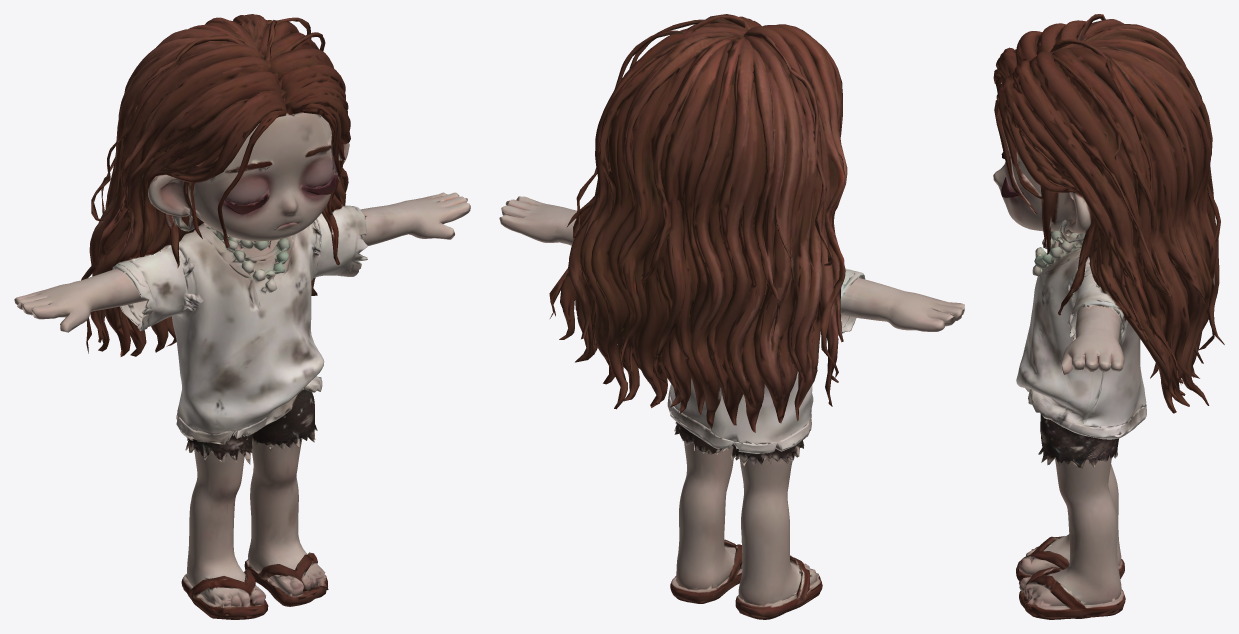
File: avatar-dead.glb
3 views of the same model, side by side, from view 1: azimuth 30°, elevation 25°; view 2: azimuth 150°, elevation 25°; view 3: azimuth 270°, elevation 25° (orthographic). The views are drawn at different scales.
Visible parts, largest first — view 1: tripo_node_920f6582-f5ca-46a7-a7a7-dc34bc4491ea; view 2: tripo_node_920f6582-f5ca-46a7-a7a7-dc34bc4491ea; view 3: tripo_node_920f6582-f5ca-46a7-a7a7-dc34bc4491ea.
Boxes of the visible parts, x1=… form: tripo_node_920f6582-f5ca-46a7-a7a7-dc34bc4491ea: x1=14, y1=14, x2=470, y2=619; tripo_node_920f6582-f5ca-46a7-a7a7-dc34bc4491ea: x1=499, y1=14, x2=964, y2=619; tripo_node_920f6582-f5ca-46a7-a7a7-dc34bc4491ea: x1=993, y1=14, x2=1224, y2=619.
Size of the model in its own units: 0.8103 by 0.9802 by 0.3641.
Materials: 1 (1 with a texture image).
